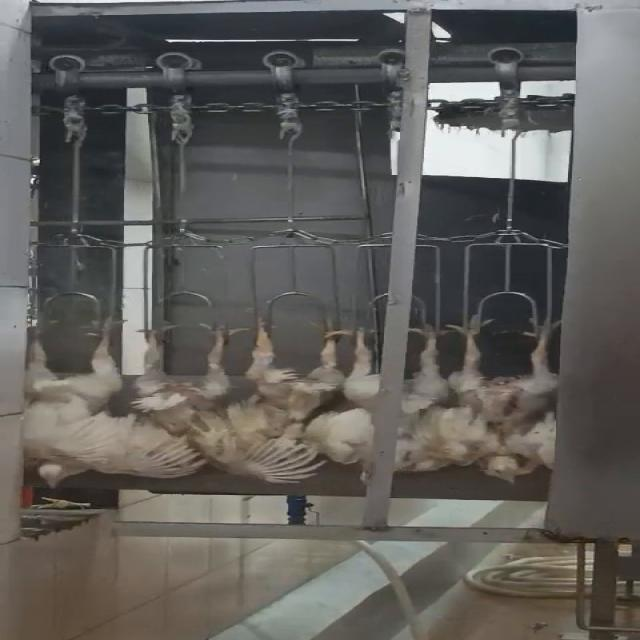chicken: (427, 310, 581, 488), (103, 313, 248, 480), (322, 306, 448, 484), (231, 312, 347, 483), (14, 310, 118, 493)
